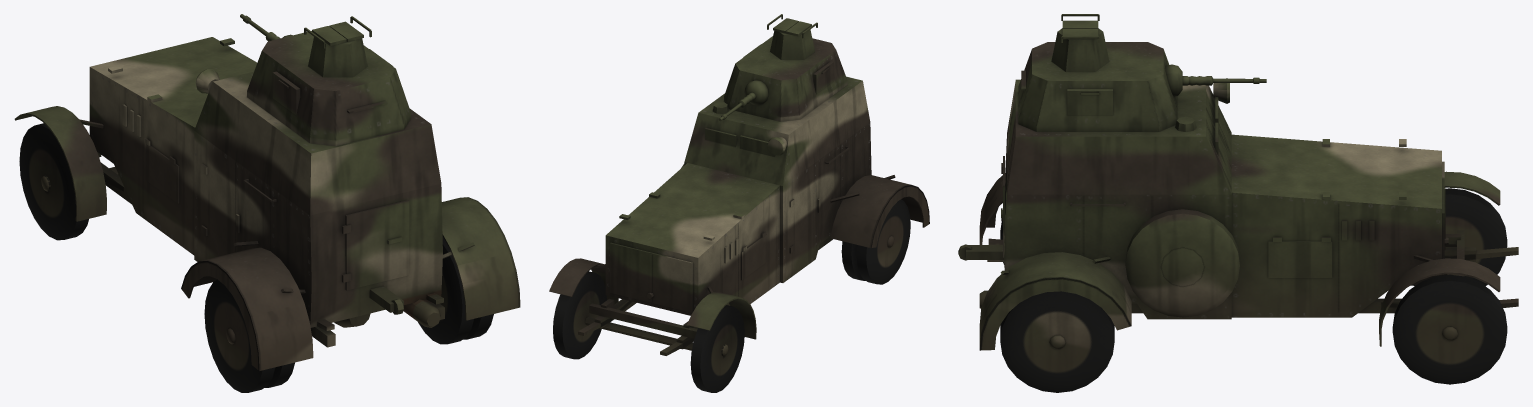
Rendered from WZ34_CKM.fbx.
3 views of the same model, side by side, from view 1: azimuth 30°, elevation 25°; view 2: azimuth 150°, elevation 25°; view 3: azimuth 270°, elevation 25° (orthographic). The views are drawn at different scales.
Parts seen in each view (by area): view 1: Chassis, Tourelle_01, Roue_02, Roue_Gauche_01; view 2: Chassis, Tourelle_01, Roue_Gauche_01, Roue_02, Roue_Droite_01, Axe_Canon_01; view 3: Chassis, Tourelle_01, Roue_Droite_01, Roue_02, Roue_Gauche_01, Canon_01.
Boxes of the visible parts, <box> form: Chassis: <box>14,37,520,370</box>; Tourelle_01: <box>247,16,410,146</box>; Roue_02: <box>204,236,493,392</box>; Roue_Gauche_01: <box>19,123,88,240</box>; Chassis: <box>549,76,929,355</box>; Tourelle_01: <box>724,14,847,121</box>; Roue_Gauche_01: <box>690,305,744,392</box>; Roue_02: <box>841,199,910,284</box>; Roue_Droite_01: <box>553,271,606,359</box>; Axe_Canon_01: <box>744,80,768,105</box>; Chassis: <box>958,78,1518,350</box>; Tourelle_01: <box>1018,14,1177,131</box>; Roue_Droite_01: <box>1392,274,1507,384</box>; Roue_02: <box>1000,221,1114,392</box>; Roue_Gauche_01: <box>1414,188,1507,286</box>; Canon_01: <box>1182,76,1266,85</box>.
Bounding box in the file's own units: 191 × 367 × 226.
1 material, 1 textured.
